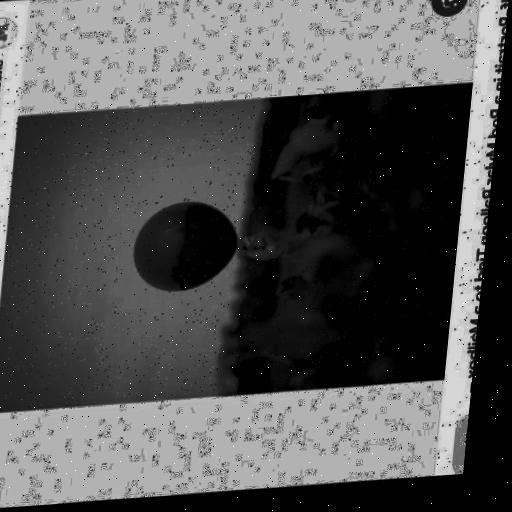balloon: (123, 197, 242, 290)
